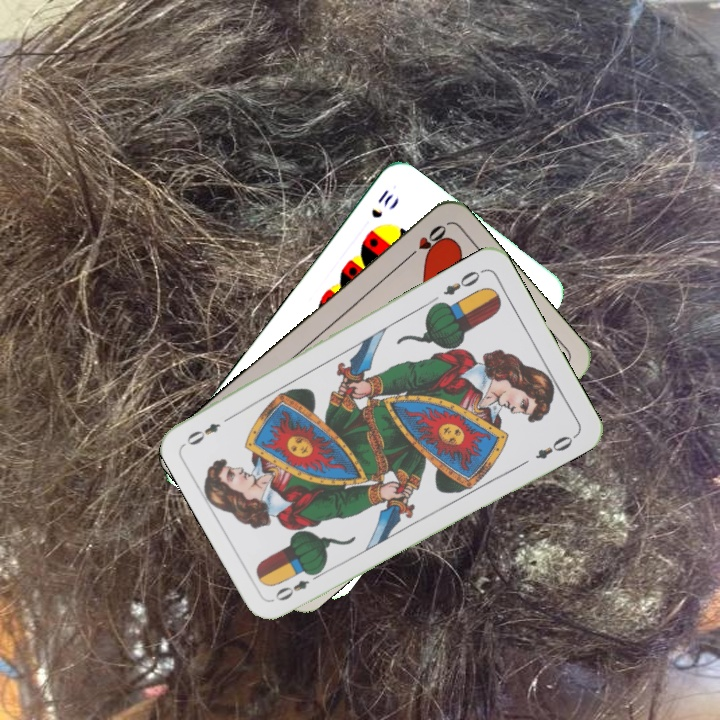EO: (271, 567, 325, 604), (439, 265, 487, 298)
HO: (400, 220, 449, 264)
S10: (367, 185, 396, 221)
